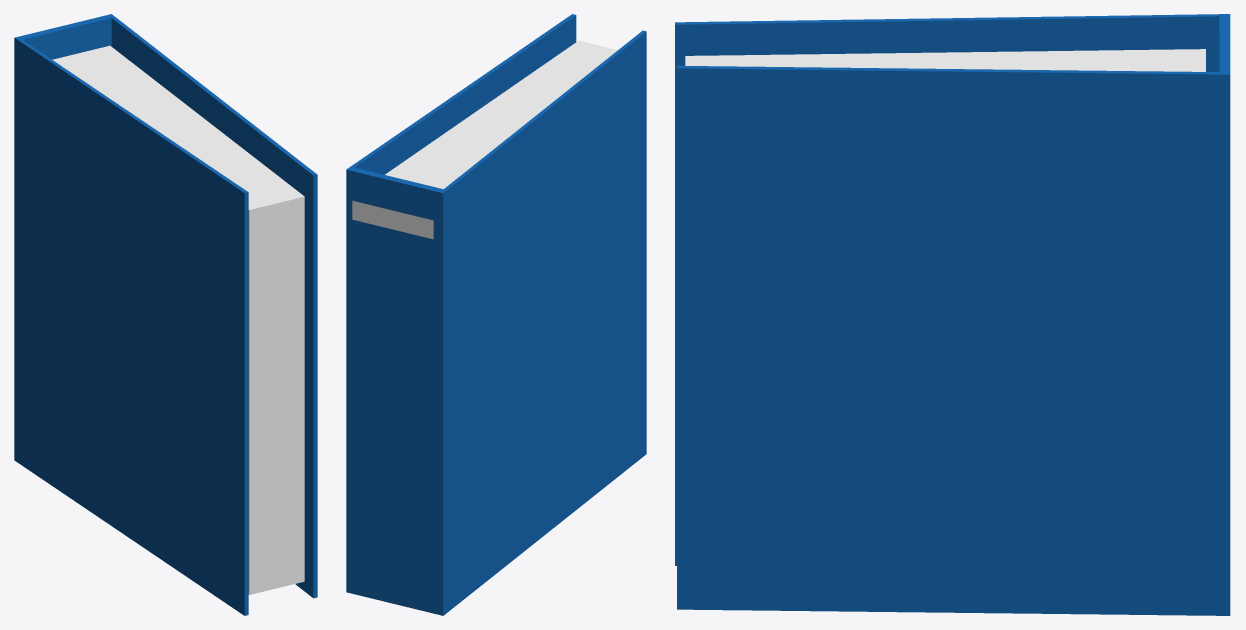
File: Binder_Blue.FBX
The picture shows the model from 3 angles, left to right: view 1: azimuth 30°, elevation 25°; view 2: azimuth 150°, elevation 25°; view 3: azimuth 270°, elevation 25°; orthographic projection. The views are drawn at different scales.
Visible parts, largest first — view 1: Binder_Blue; view 2: Binder_Blue; view 3: Binder_Blue.
Part boxes in pixels (<box>): Binder_Blue: <box>14,14,317,615</box>; Binder_Blue: <box>346,14,646,615</box>; Binder_Blue: <box>675,14,1230,615</box>.
Size of the model in its own units: 0.1386 by 0.5764 by 0.5375.
